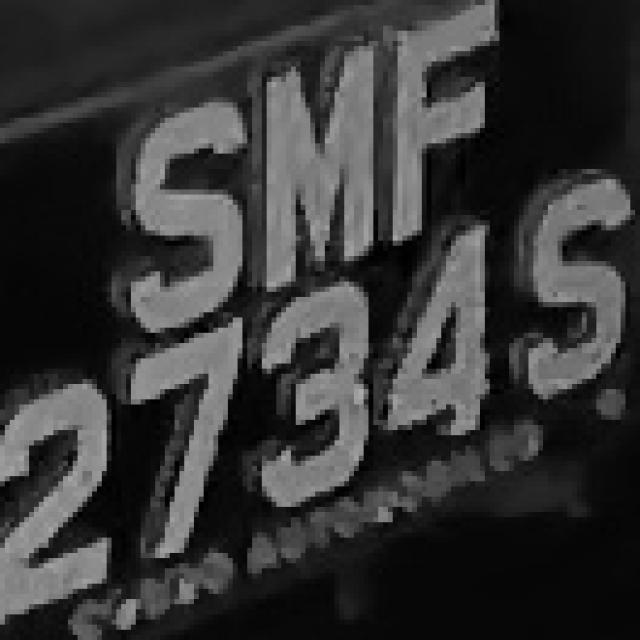2: (10, 369, 126, 635)
3: (242, 271, 378, 517)
4: (378, 210, 499, 461)
7: (112, 307, 252, 574)
F: (383, 0, 504, 241)
M: (242, 36, 388, 292)
S: (97, 92, 242, 343), (514, 164, 635, 420)
